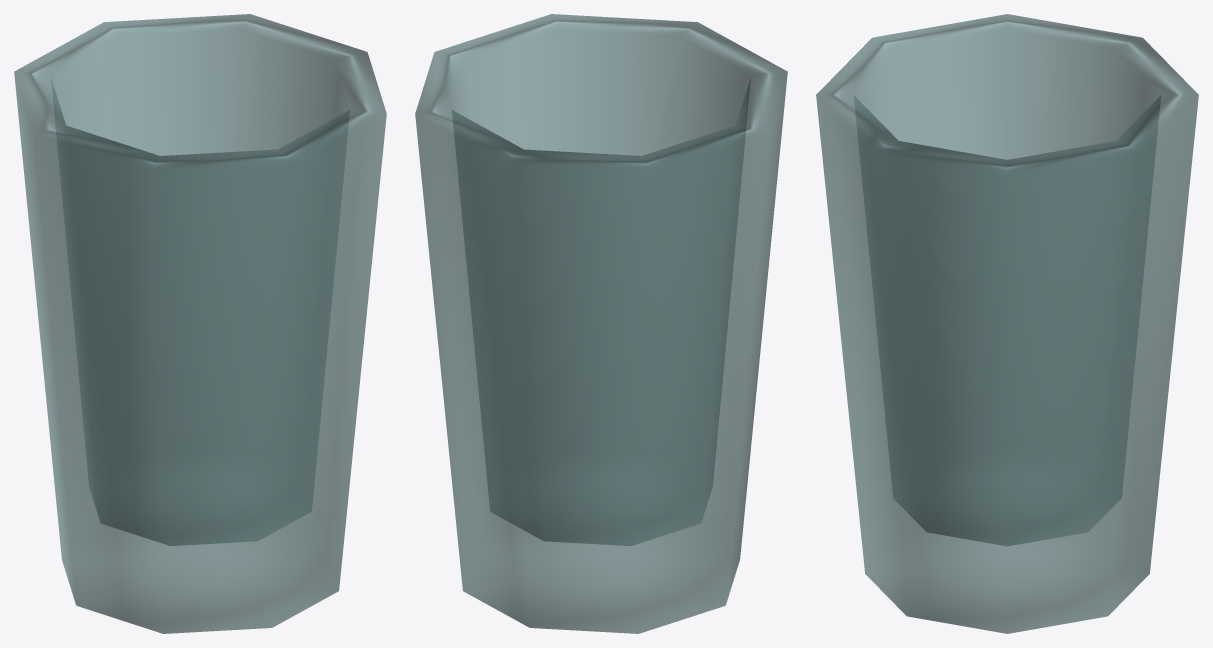
Rendered from dricksglas.fbx.
3 renders of one model, left to right at view 1: azimuth 30°, elevation 25°; view 2: azimuth 150°, elevation 25°; view 3: azimuth 270°, elevation 25°, orthographic.
Visible parts, largest first — view 1: pCylinder8; view 2: pCylinder8; view 3: pCylinder8.
Boxes of the visible parts, x1=… form: pCylinder8: x1=14, y1=14, x2=386, y2=633; pCylinder8: x1=415, y1=14, x2=787, y2=633; pCylinder8: x1=816, y1=14, x2=1198, y2=633.
Size of the model in its own units: 0.8829 by 1.22 by 0.8829.
